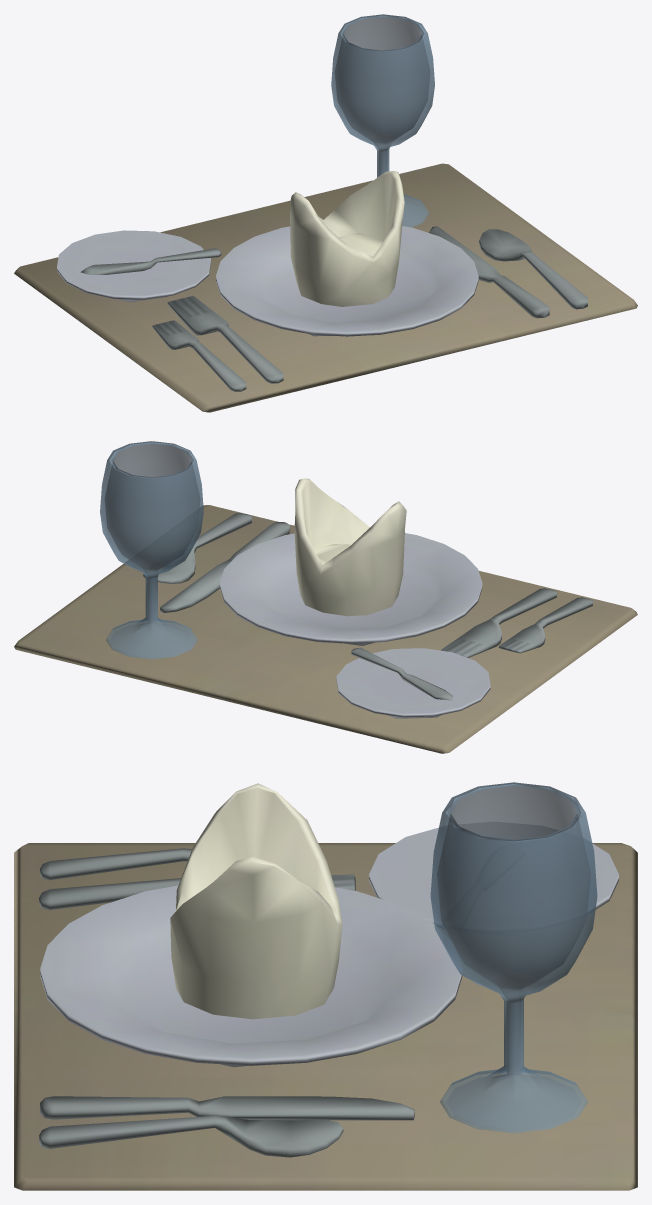
The picture shows the model from 3 angles, top to bottom: view 1: azimuth 30°, elevation 25°; view 2: azimuth 150°, elevation 25°; view 3: azimuth 270°, elevation 25°; orthographic projection. The views are drawn at different scales.
Bounding box in the file's own units: 8.94 × 3.64 × 6.91.
Materials: 4 (3 with a texture image).
